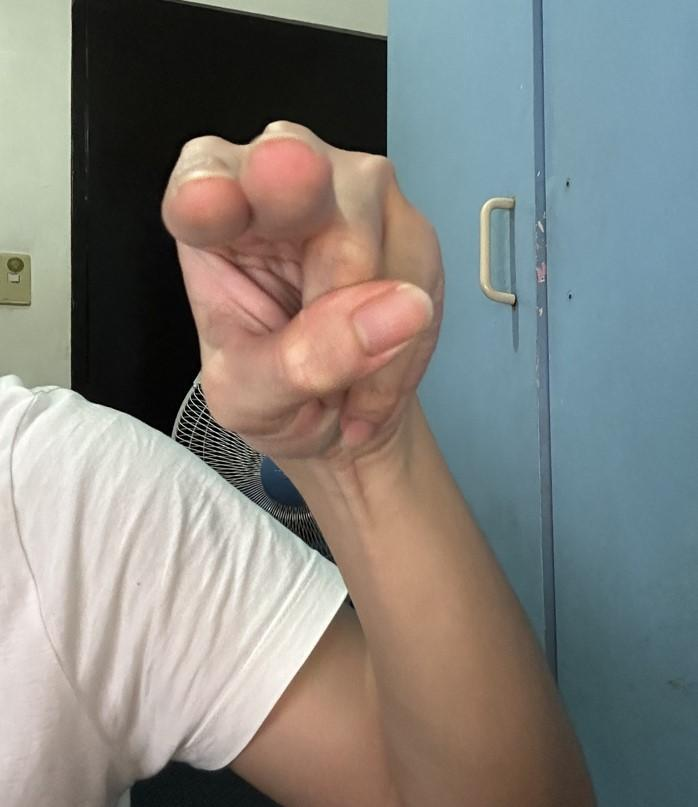n: (159, 118, 449, 471)
